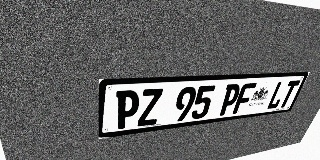5: (190, 85, 216, 120)
9: (172, 86, 198, 122)
F: (232, 83, 257, 114)
L: (265, 81, 289, 110)
P: (115, 90, 140, 130), (217, 84, 242, 116)
T: (277, 80, 301, 108)
Z: (137, 88, 163, 127)
